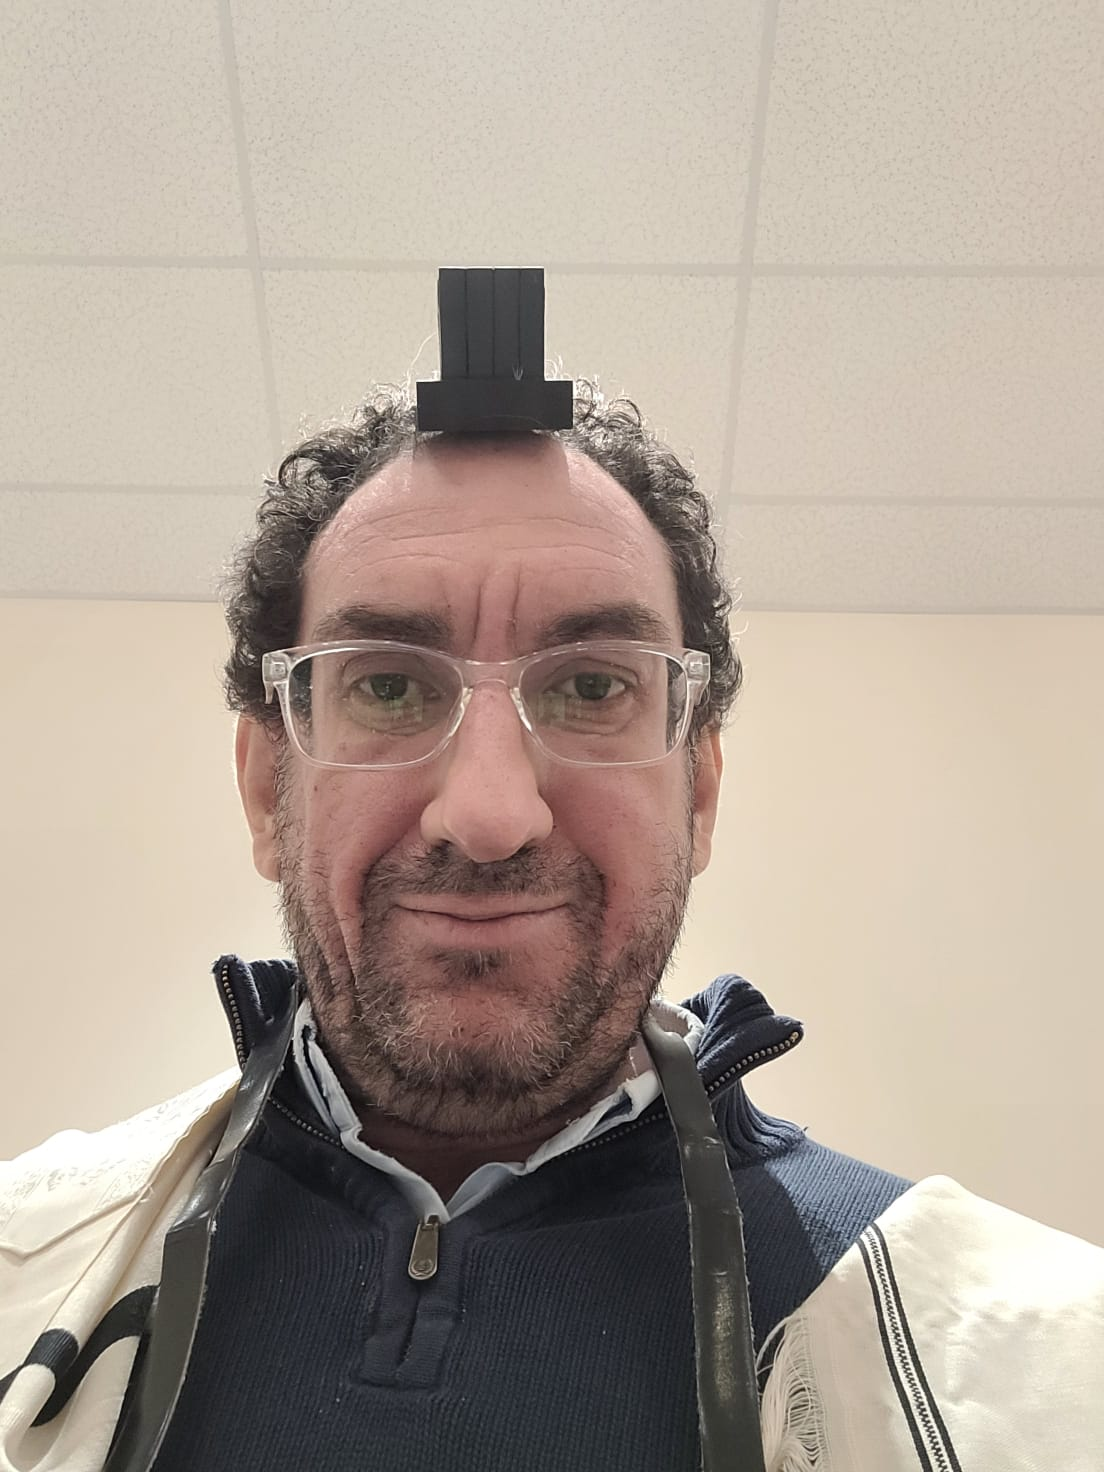tefillin: (416, 264, 574, 430)
